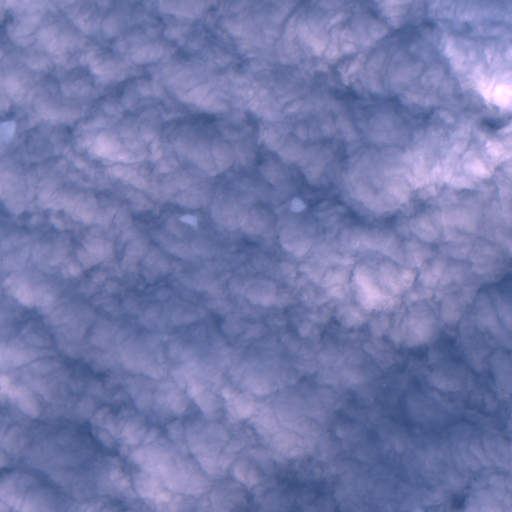Iceberg: (0, 121, 14, 143), (180, 215, 197, 228), (289, 198, 305, 211), (383, 384, 385, 386), (370, 399, 372, 400)
